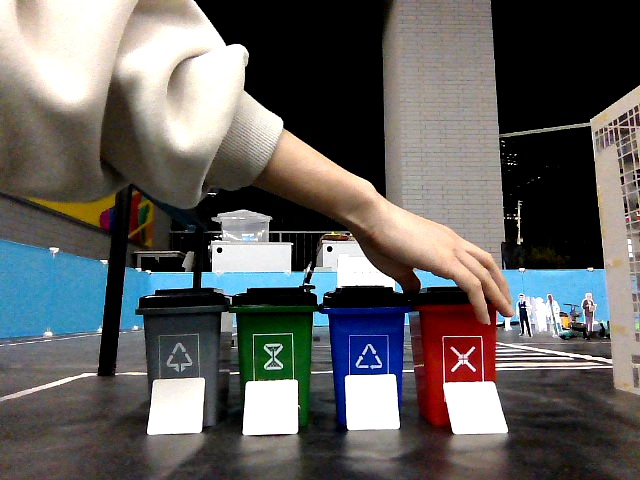blue_close: (327, 285, 401, 368)
green_close: (237, 288, 309, 376)
grey_close: (144, 289, 220, 375)
red_close: (420, 287, 491, 377)
